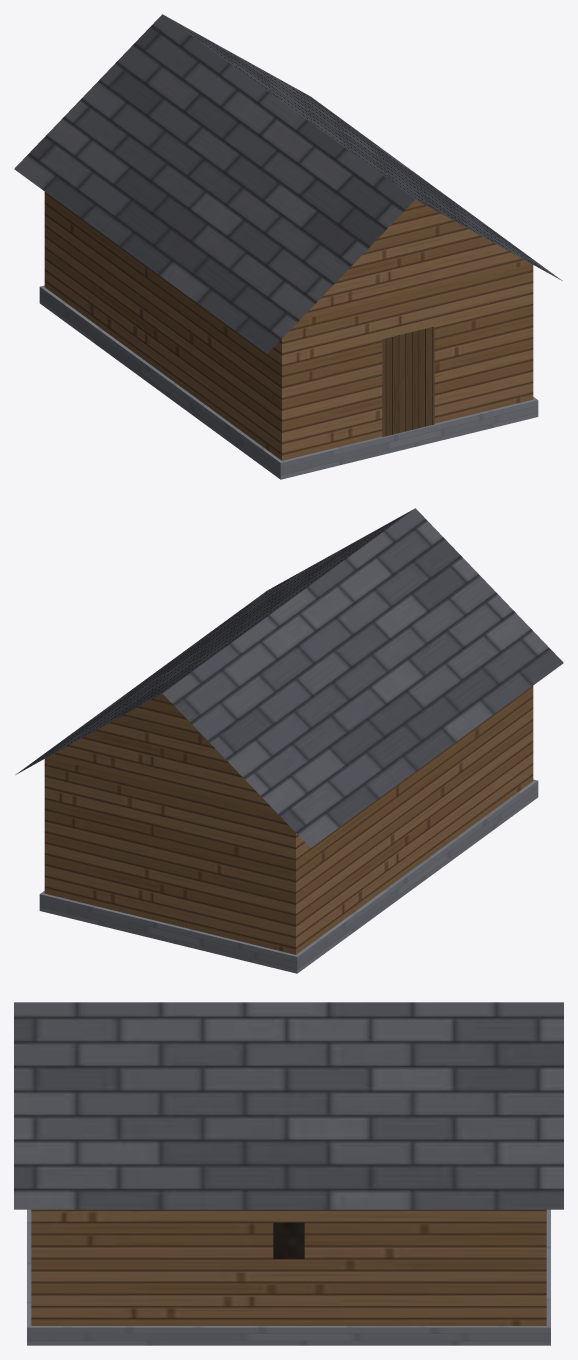
Rendered from ae_snow_wood_large_hall_lod2.glb.
3 renders of one model, top to bottom at view 1: azimuth 30°, elevation 25°; view 2: azimuth 150°, elevation 25°; view 3: azimuth 270°, elevation 25°, orthographic. The views are drawn at different scales.
Visible parts, largest first — view 1: ae_snow_wood_large_hall_lod2; view 2: ae_snow_wood_large_hall_lod2; view 3: ae_snow_wood_large_hall_lod2.
Part boxes in pixels (bbox=[...]): ae_snow_wood_large_hall_lod2: bbox=[14, 14, 562, 479]; ae_snow_wood_large_hall_lod2: bbox=[15, 508, 563, 973]; ae_snow_wood_large_hall_lod2: bbox=[14, 1002, 563, 1345].
Bounding box in the file's own units: 6.5 × 5.3 × 9.6.
1 material, 1 textured.
